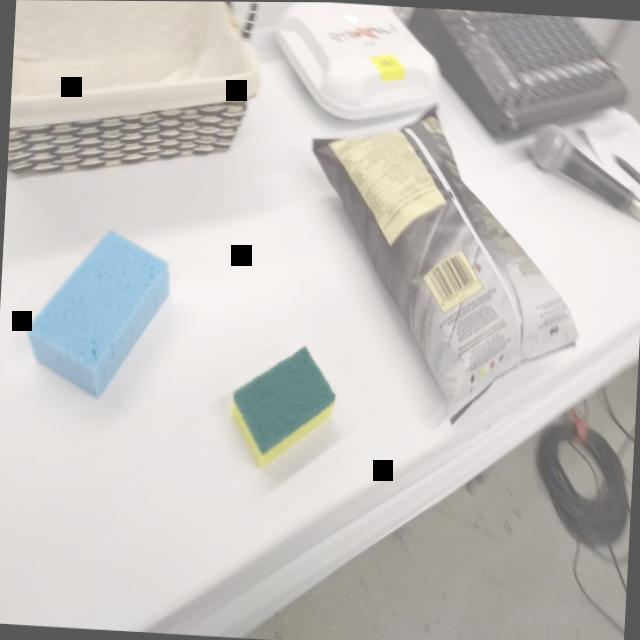potato_chips: (295, 90, 595, 438)
scrubby: (225, 336, 342, 475)
sponge_opl: (20, 219, 177, 406)
